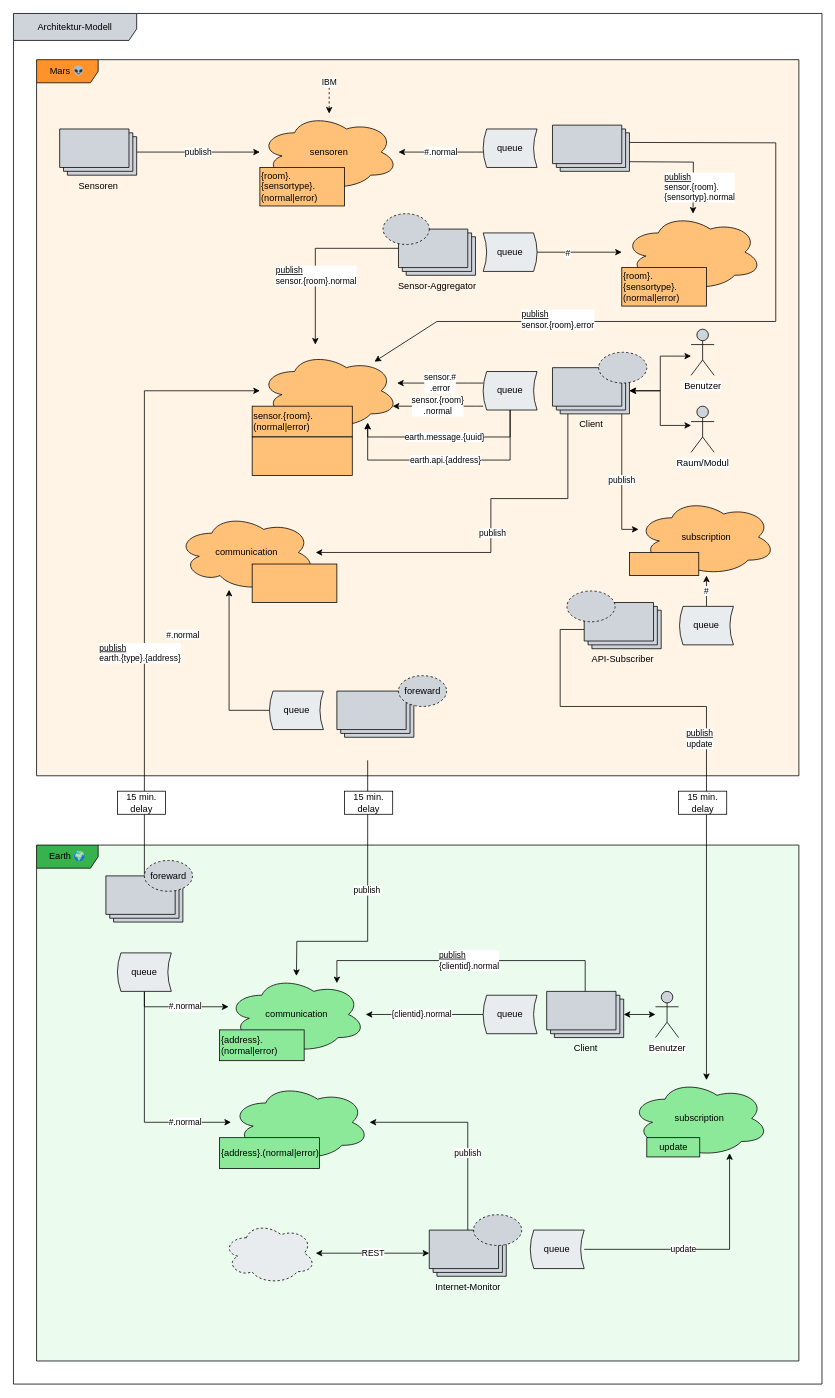
This 835x1398 diagram has some shape labels left out. The shapes that lost their labels are listed below. From the top down, each one's box as (x1, y1, x2, y2) in pixels, then its label:
(552, 124, 629, 171): Security-Monitor
(382, 213, 429, 244): Combine Data
(623, 213, 762, 291): aggregator
(598, 352, 647, 383): subs
(259, 352, 398, 429): enduser
(251, 436, 352, 475): earth.(api|message).{address}
(251, 563, 337, 603): {address}.(normal.error)
(629, 552, 699, 576): (sub|desub)
(566, 590, 615, 622): Save Subs
(336, 690, 414, 737): Mars-Interaface
(105, 875, 183, 922): Earth-Interface
(230, 1083, 370, 1161): api-monitor
(473, 1214, 522, 1245): Cache Subs
(223, 1222, 316, 1284): External API
